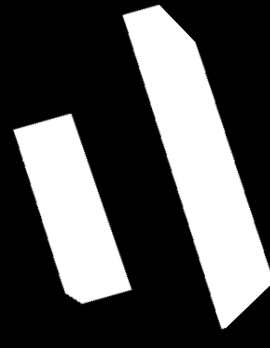parkingspot: (123, 5, 270, 329), (13, 114, 132, 304)
